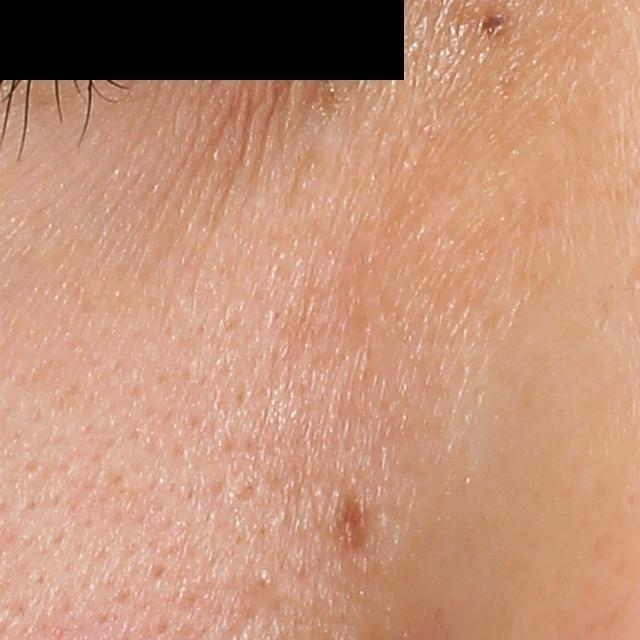nevus: (319, 494, 367, 557), (474, 1, 512, 42)
